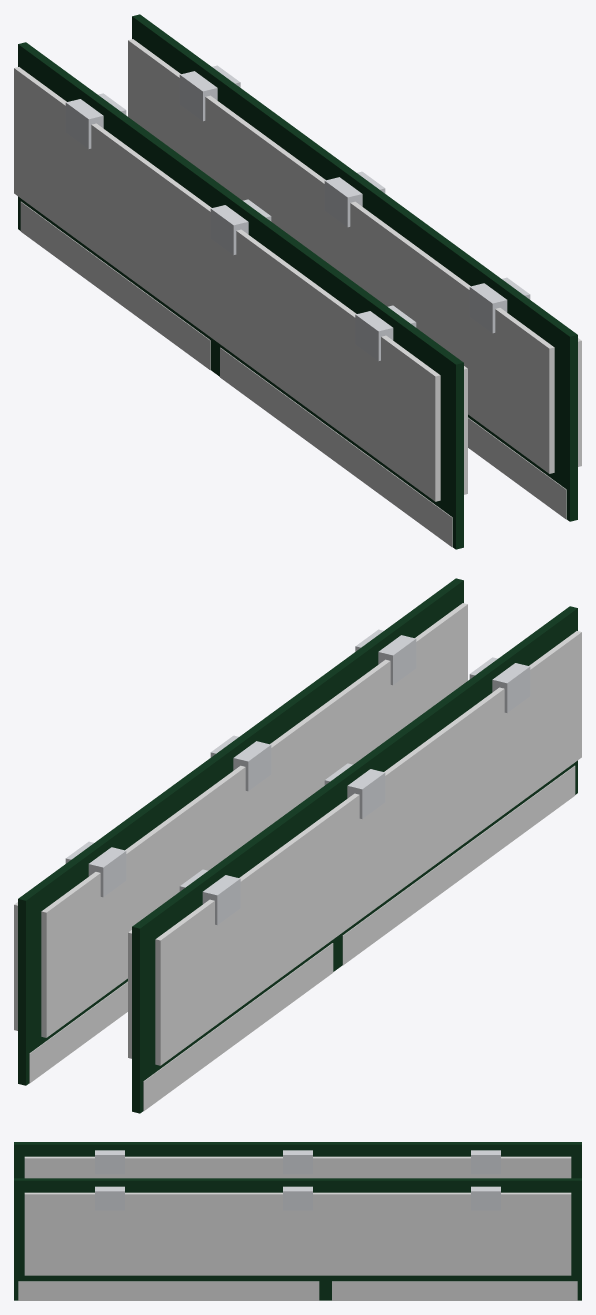
The model's file is hw_ram_ddr5_64gb.glb.
3 renders of one model, top to bottom at view 1: azimuth 30°, elevation 25°; view 2: azimuth 150°, elevation 25°; view 3: azimuth 270°, elevation 25°, orthographic. The views are drawn at different scales.
Visible parts, largest first — view 1: Stick_1, Body; view 2: Stick_1, Body; view 3: Body, Stick_1.
Part boxes in pixels (<box>): Stick_1: <box>14,42,467,549</box>; Body: <box>128,14,581,521</box>; Stick_1: <box>128,606,581,1113</box>; Body: <box>14,578,467,1085</box>; Body: <box>14,1178,581,1300</box>; Stick_1: <box>14,1142,581,1178</box>.
Bounding box in the file's own units: 0.0266 × 0.031 × 0.133.
